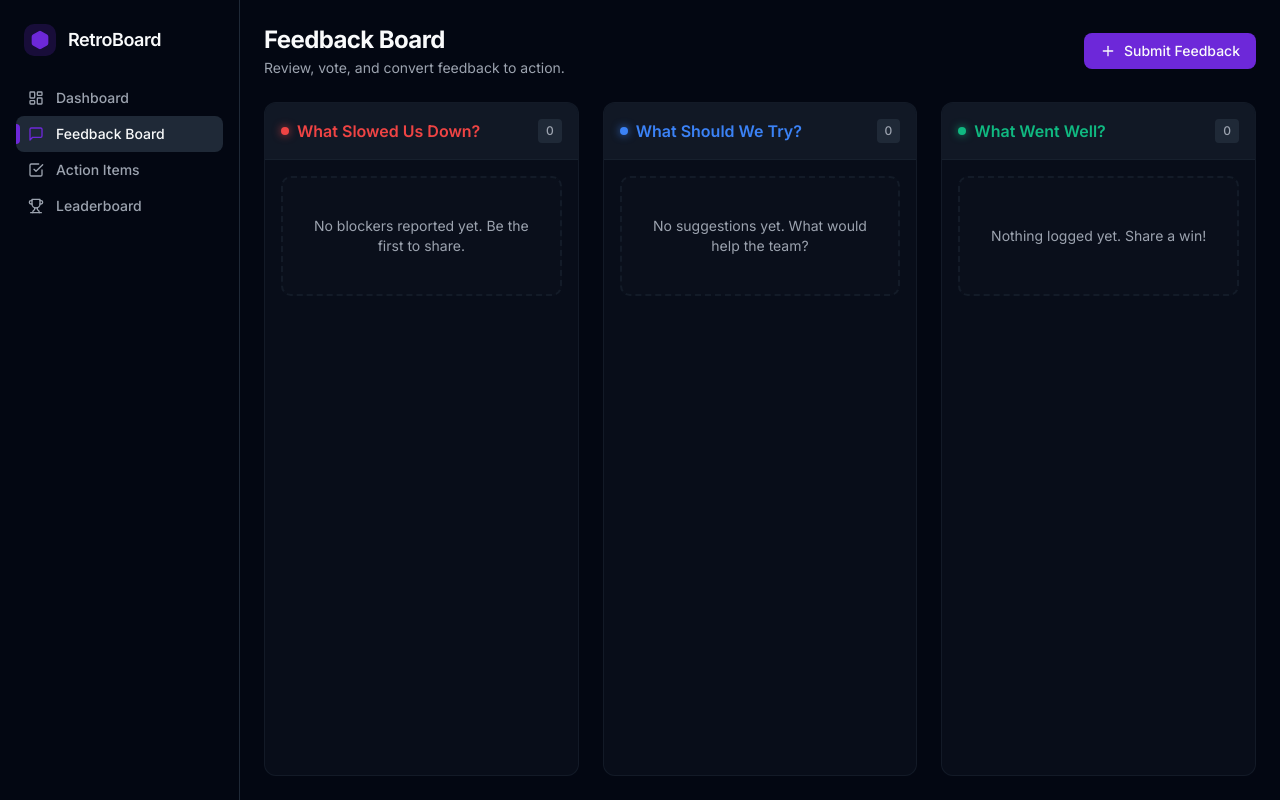
FB-5: clicking Submit Feedback button opens the modal
What coordinates should you click on to do the following:
click the button with test id "open-modal-btn"
I would click on:
 (1170, 51)
Its box is [1084,33,1256,69].
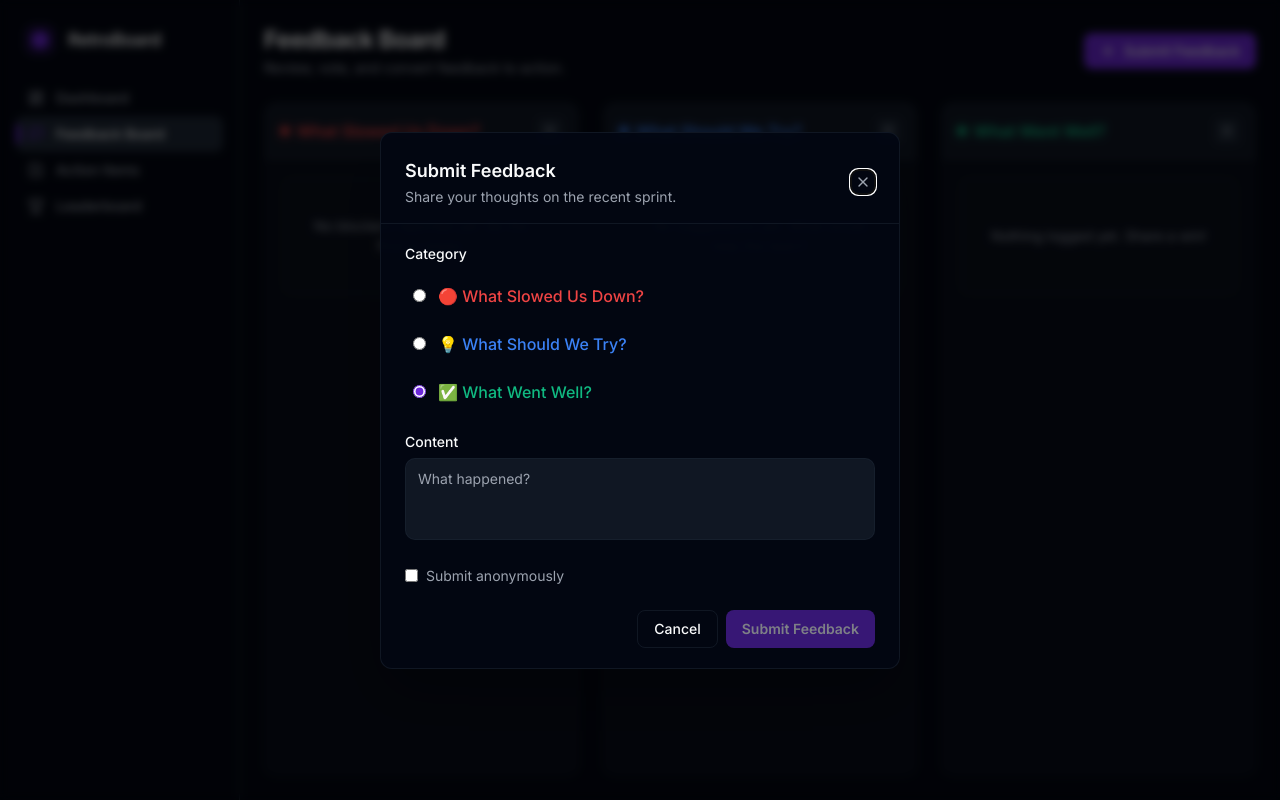
Check: the dialog with test id "submit-feedback-modal" is shown, box [380,132,900,668]
